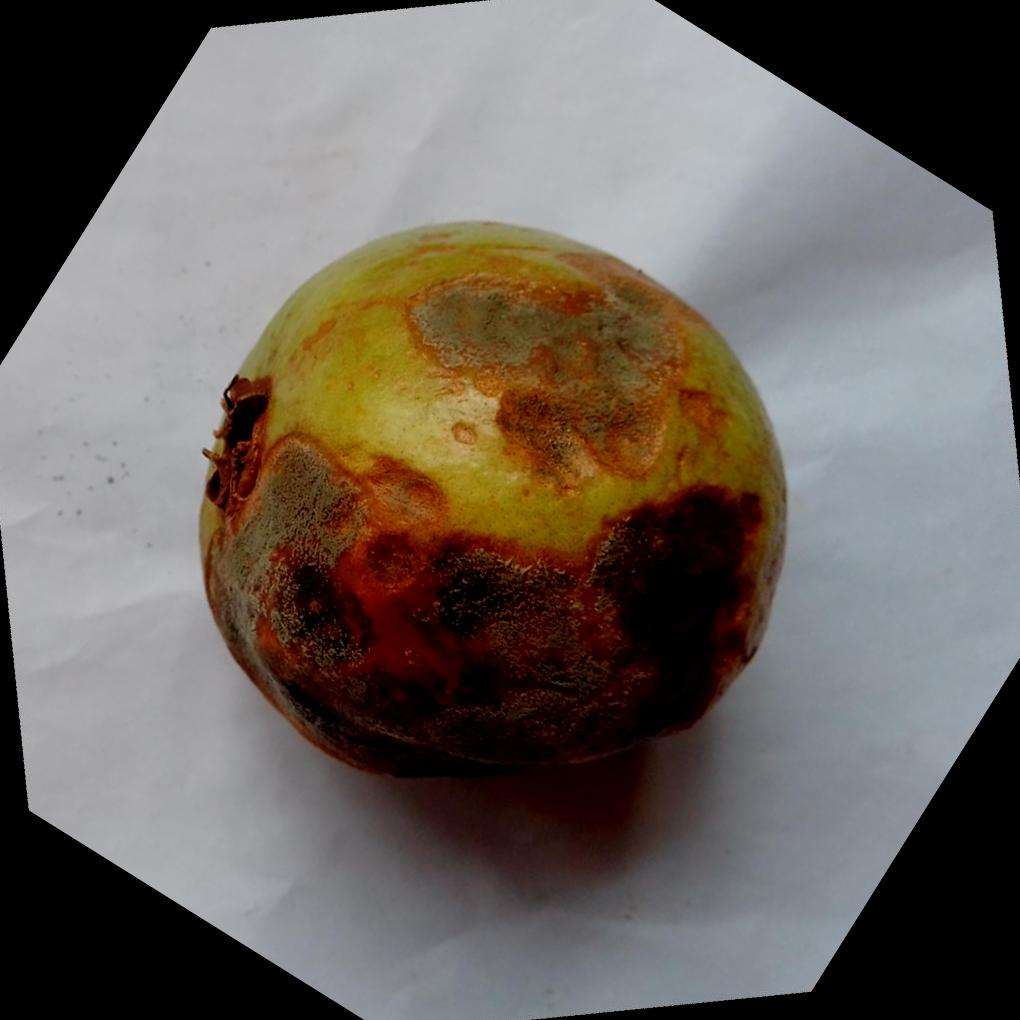FreshOrange: (198, 219, 792, 782)
